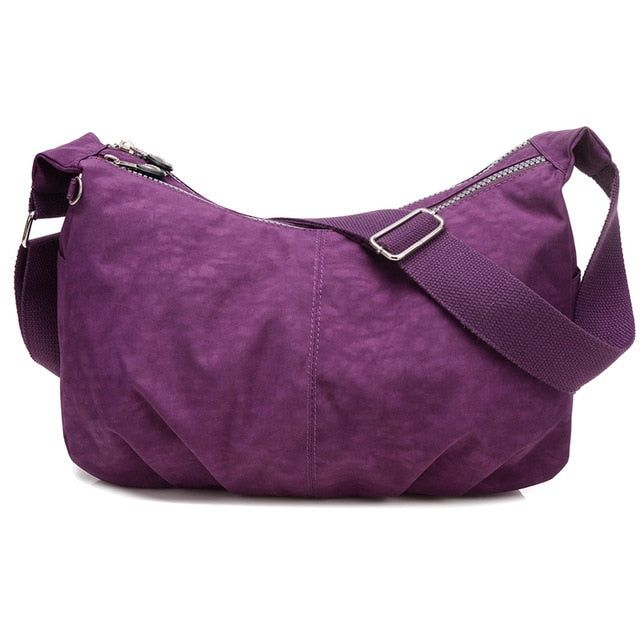nylon: (14, 127, 636, 502)
